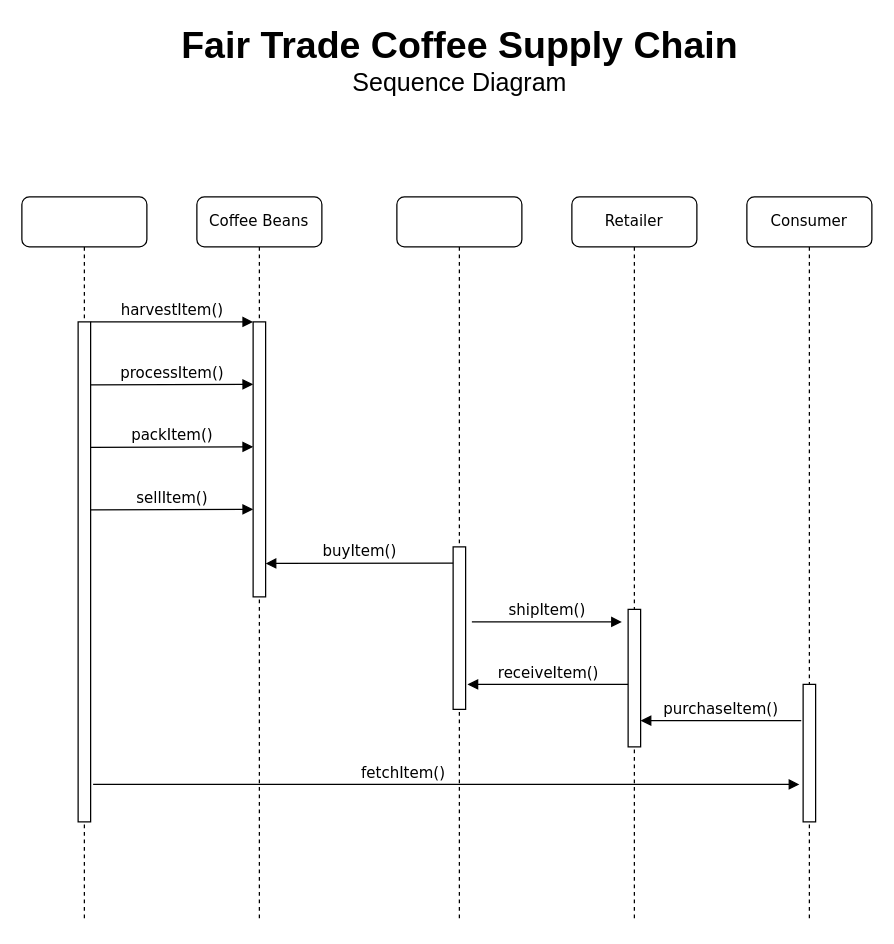
This 894x944 diagram has some shape labels left out. Here are the shapes that lost their labels. From the top down, the box of each, then its label:
(21, 196, 147, 922): Farmer
(396, 196, 522, 922): Distributor
